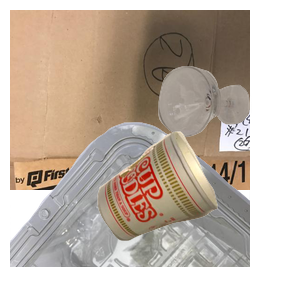cardboard: (10, 10, 250, 190)
glass: (156, 64, 300, 194)
plastic: (10, 120, 250, 300)
trash: (95, 129, 300, 300)
